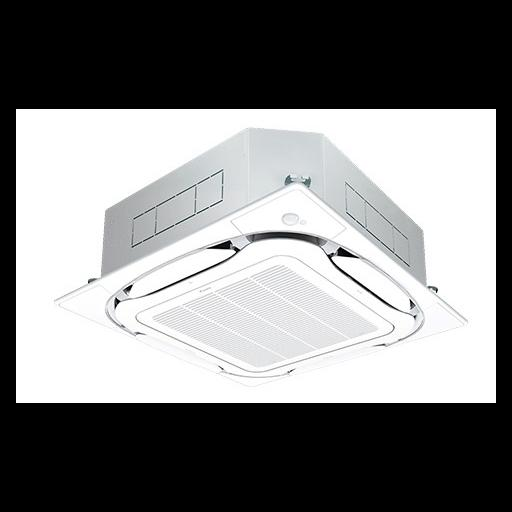4-way-ac: (54, 184, 468, 390)
